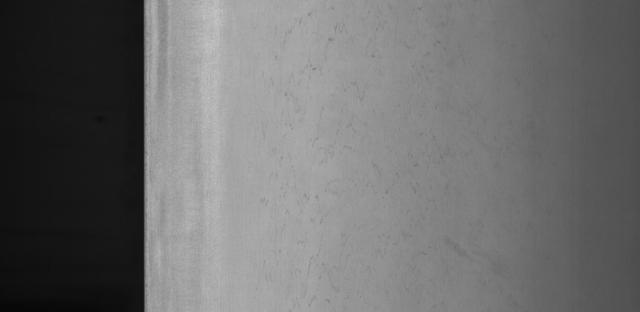silk_spot: (265, 25, 432, 286)
